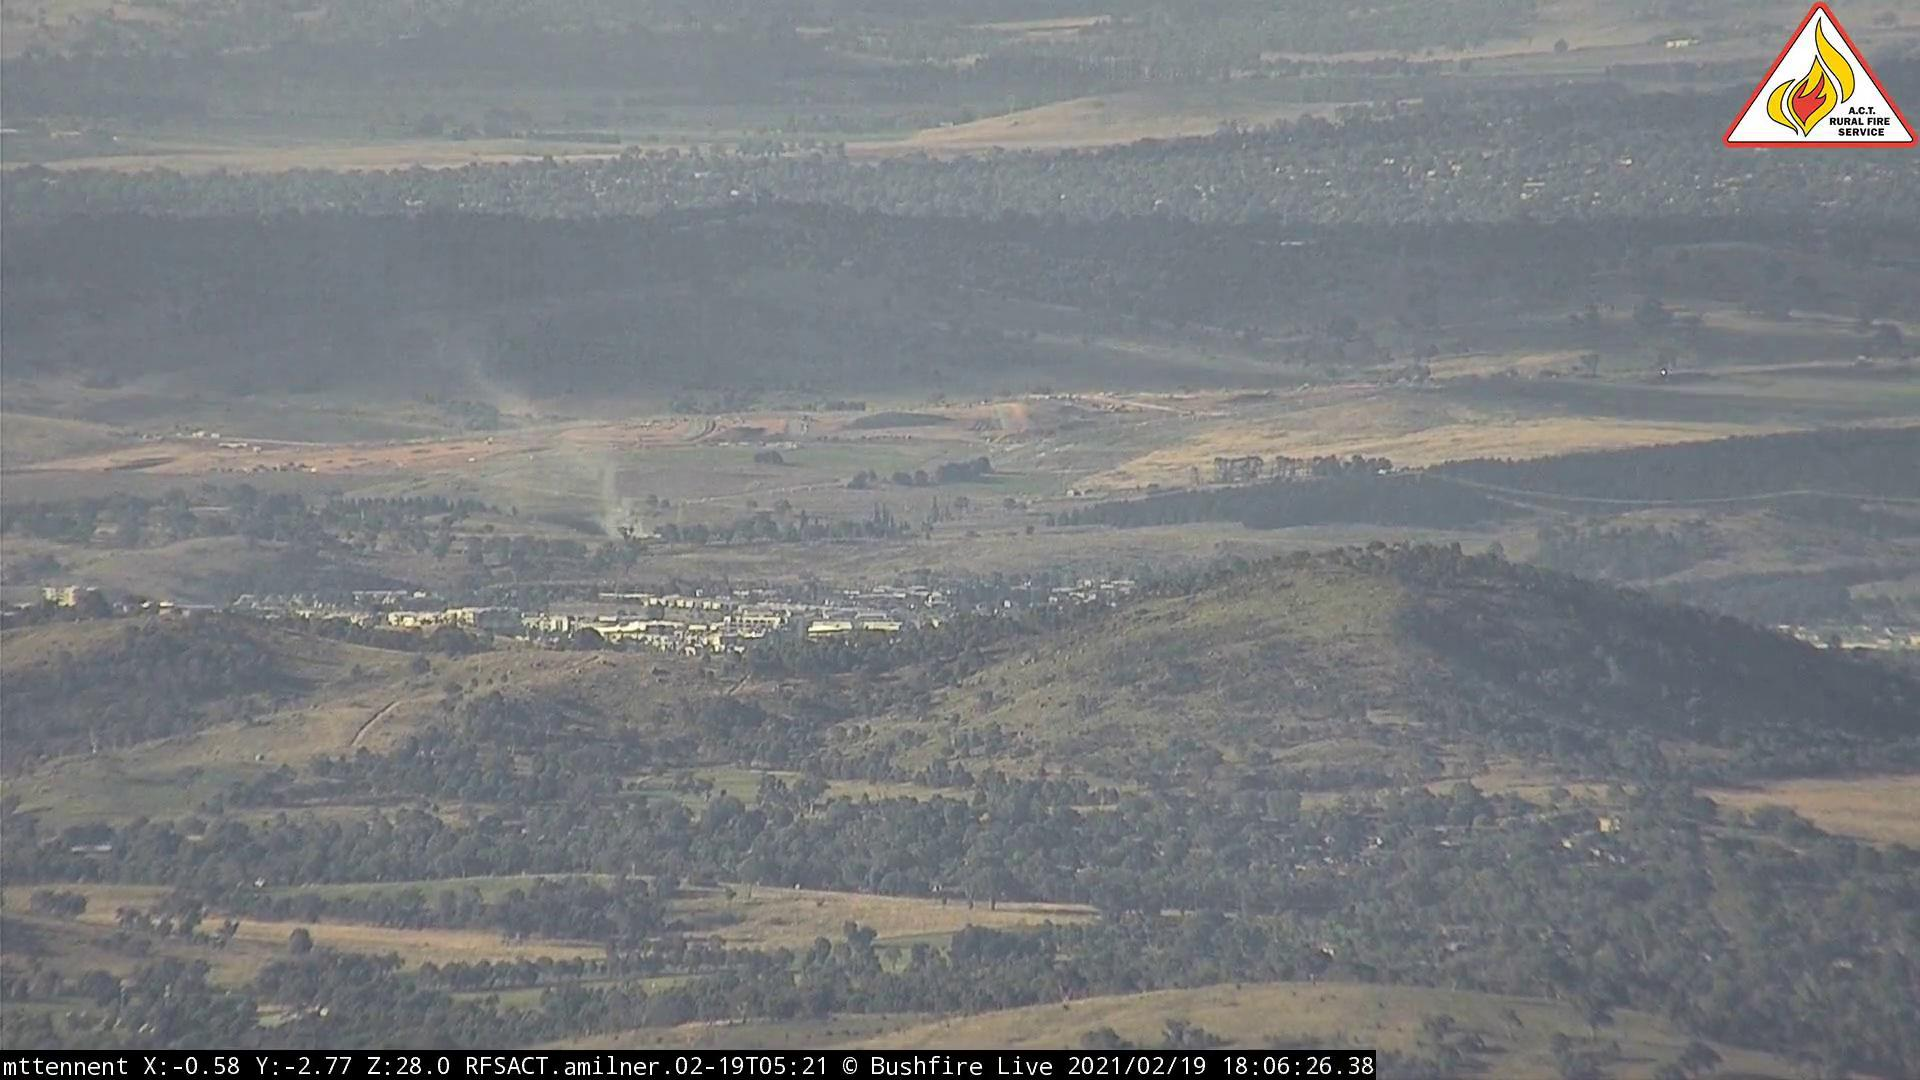Smoke: (553, 450, 674, 545)
